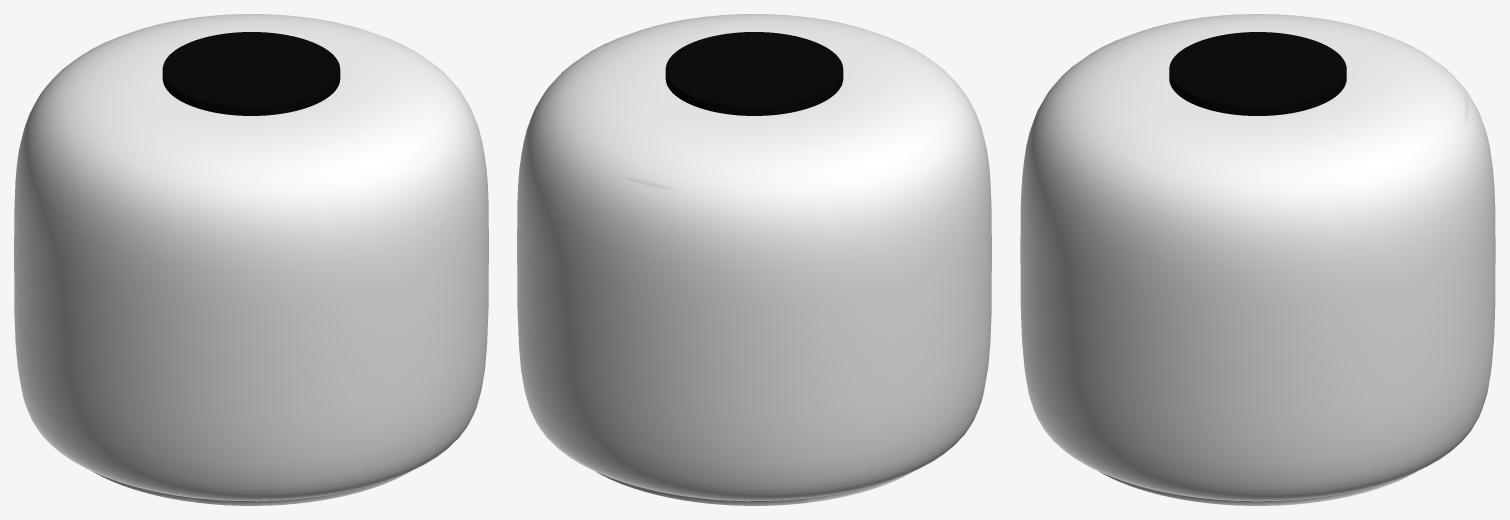
Rendered from Pandent2 (2).glb.
3 renders of one model, left to right at view 1: azimuth 30°, elevation 25°; view 2: azimuth 150°, elevation 25°; view 3: azimuth 270°, elevation 25°, orthographic.
Parts seen in each view (by area): view 1: Pandnet; view 2: Pandnet; view 3: Pandnet.
Part boxes in pixels (x1,y1,x2,y2): Pandnet: (14,14,488,505); Pandnet: (517,14,991,505); Pandnet: (1020,14,1495,505).
Bounding box in the file's own units: 0.1138 × 0.1026 × 0.1138.
3 materials, 1 textured.
